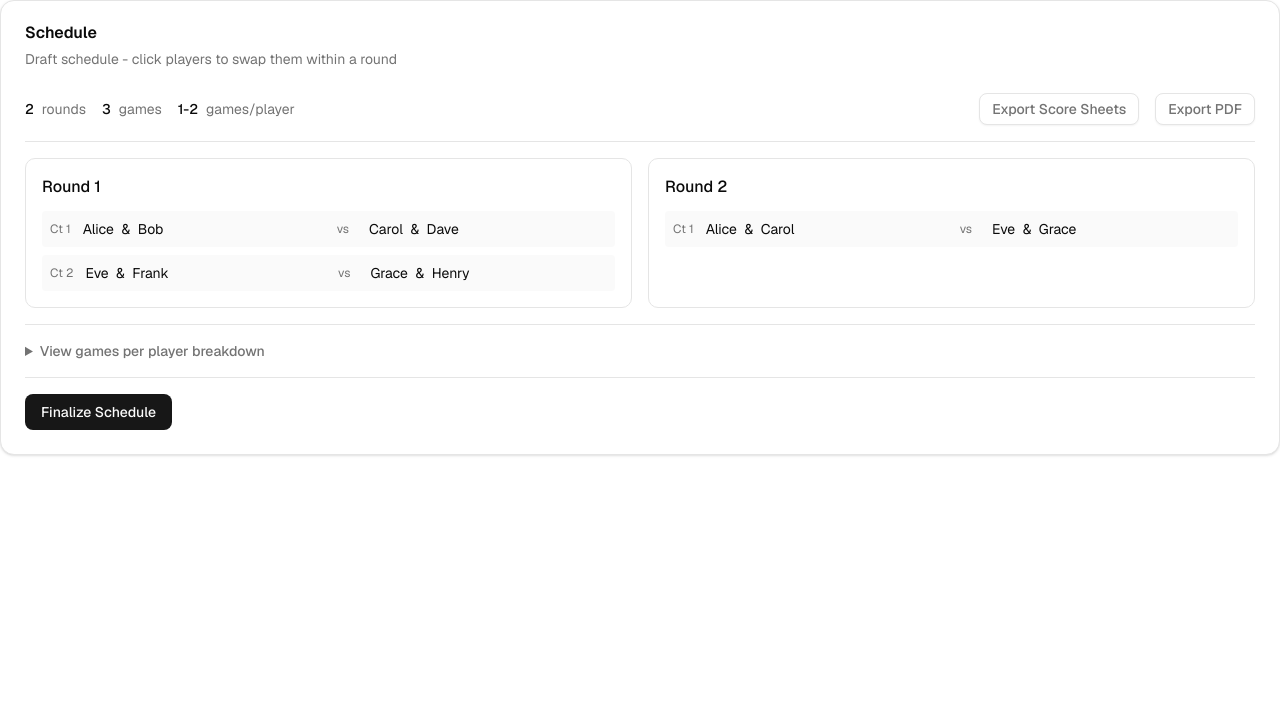
Test: ScheduleViewer - Swap Mode › pressing Escape key exits swap mode
# Enter swap mode
Click the 1st button "Alice" at (98, 229), box [83,220,114,238]
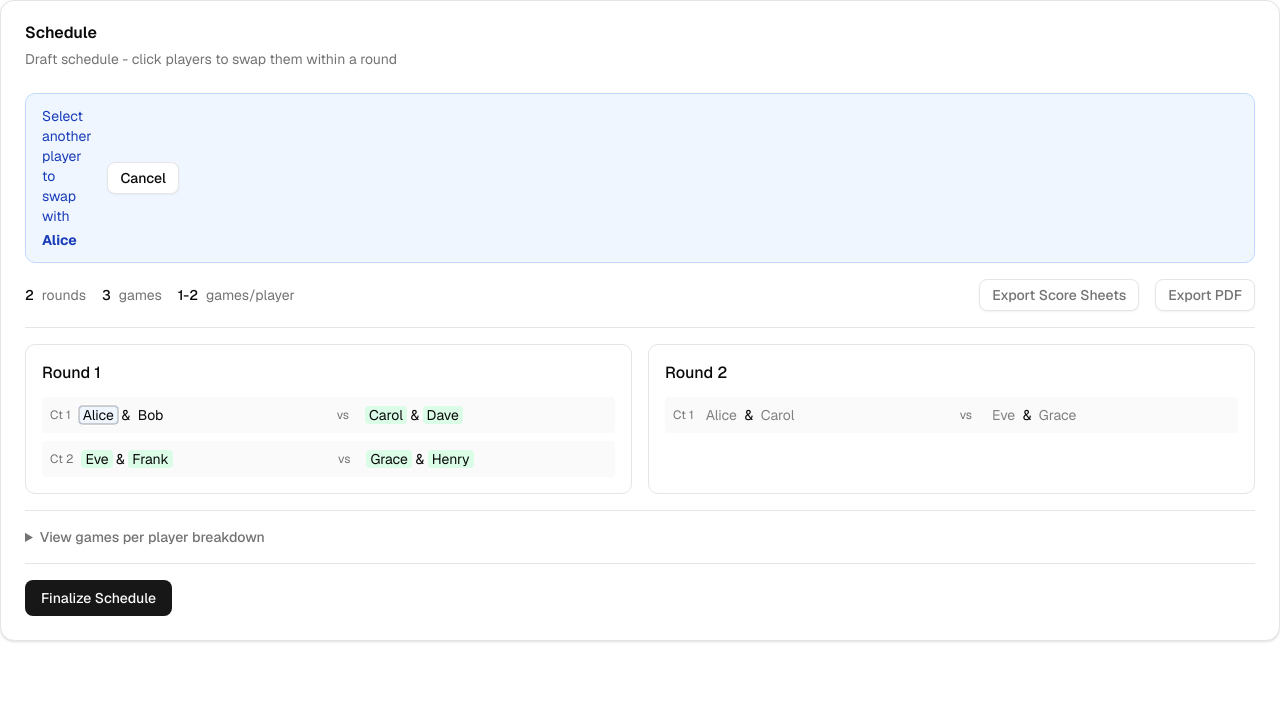
Expected: the element with test id "swap-banner" is shown, [25,93,1255,263]
# Press Escape
Press Escape
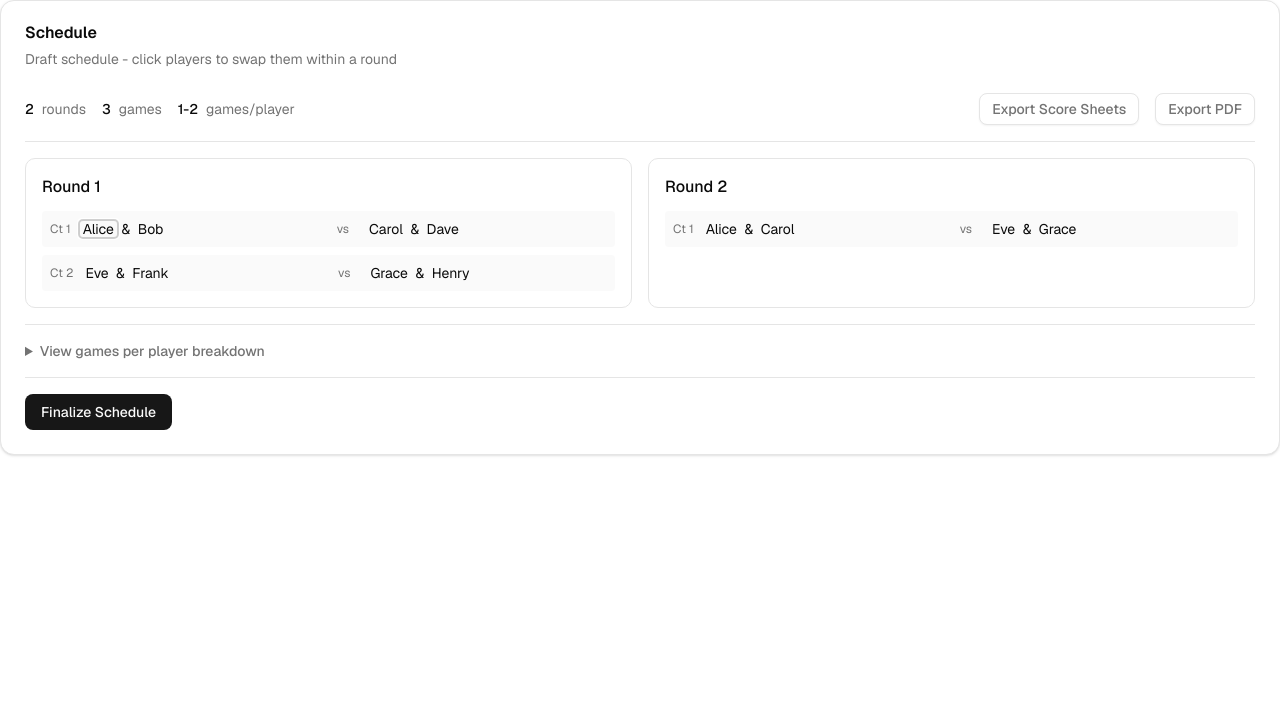
Expected: the element with test id "swap-banner" is gone
